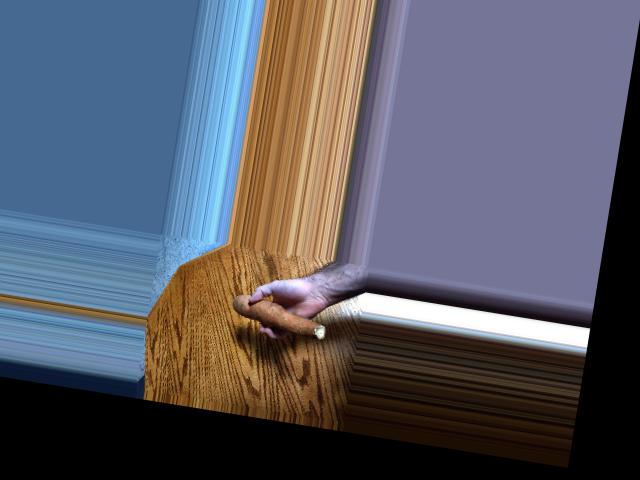sweet_potato: (225, 296, 336, 343)
